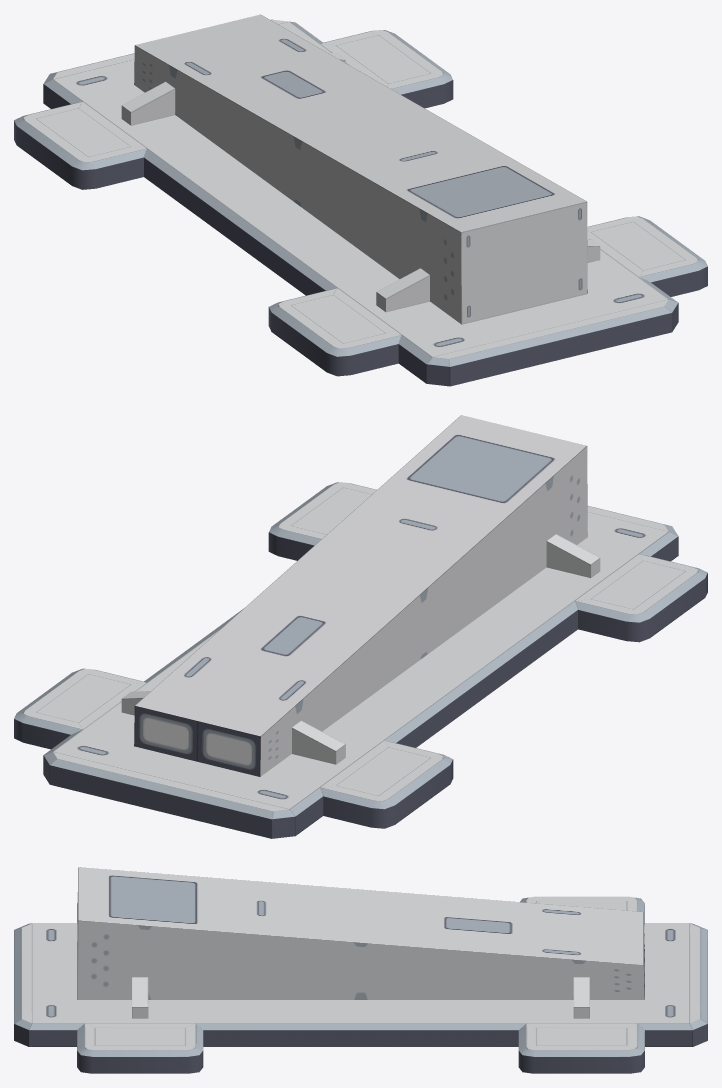
File: Cryo_Pod_Base_01.FBX
The picture shows the model from 3 angles, top to bottom: view 1: azimuth 30°, elevation 25°; view 2: azimuth 150°, elevation 25°; view 3: azimuth 270°, elevation 25°; orthographic projection. The views are drawn at different scales.
Visible parts, largest first — view 1: Cryo_Pod_Base_01; view 2: Cryo_Pod_Base_01; view 3: Cryo_Pod_Base_01.
Part boxes in pixels (x1,y1,x2,y2): Cryo_Pod_Base_01: [14, 14, 707, 386]; Cryo_Pod_Base_01: [14, 415, 707, 838]; Cryo_Pod_Base_01: [14, 867, 707, 1073].
Bounding box in the file's own units: 1.5 × 0.4369 × 2.75.
